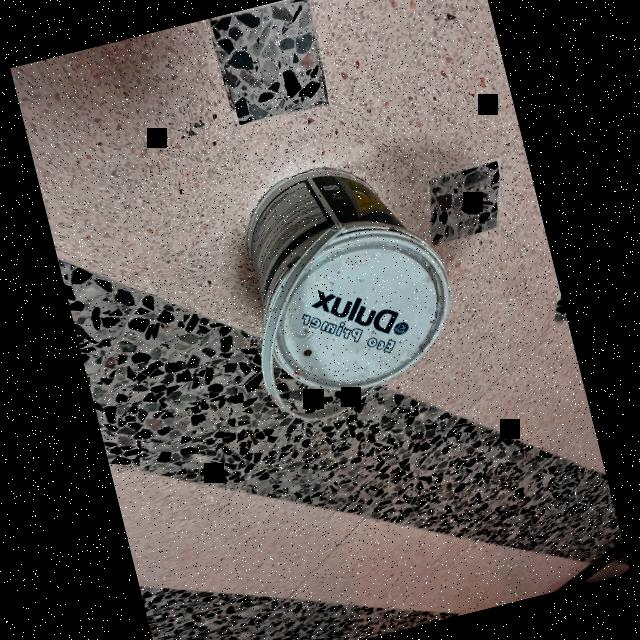paint_bucket: (190, 131, 478, 445)
